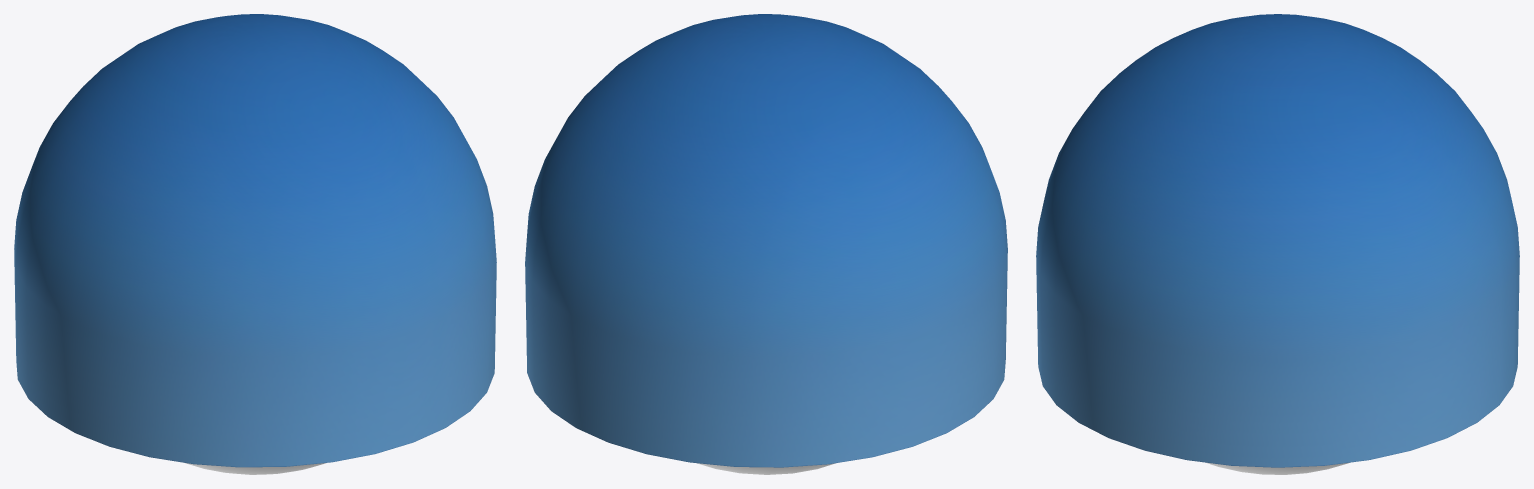
Rendered from sky.dae.
3 views of the same model, side by side, from view 1: azimuth 30°, elevation 25°; view 2: azimuth 150°, elevation 25°; view 3: azimuth 270°, elevation 25° (orthographic).
Parts seen in each view (by area): view 1: sky; view 2: sky; view 3: sky.
Boxes of the visible parts, <box> form: sky: <box>14,14,496,474</box>; sky: <box>525,14,1007,474</box>; sky: <box>1036,14,1519,474</box>.
Size of the model in its own units: 1.76 by 1.76 by 1.68.
